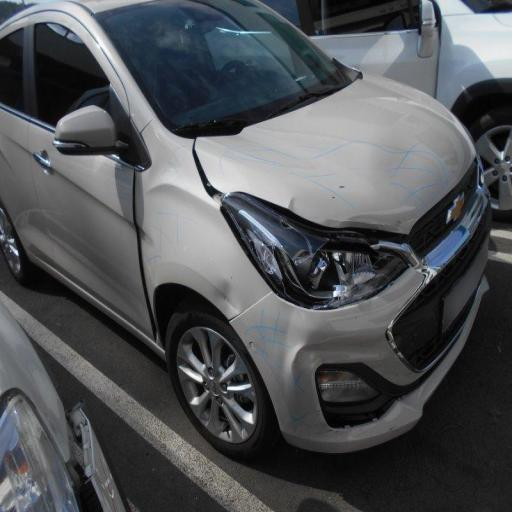broken: (166, 104, 271, 242)
dent: (205, 260, 256, 340)
